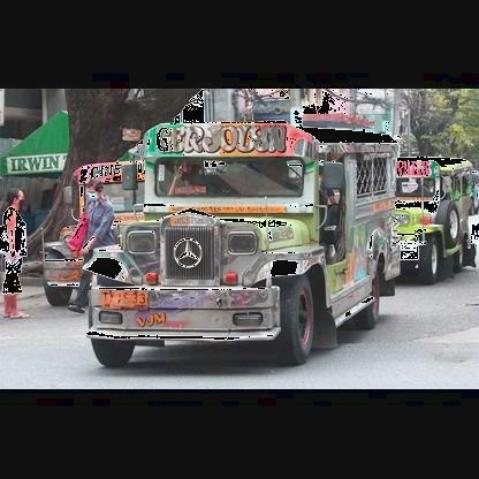jeepney: (102, 111, 405, 360)
